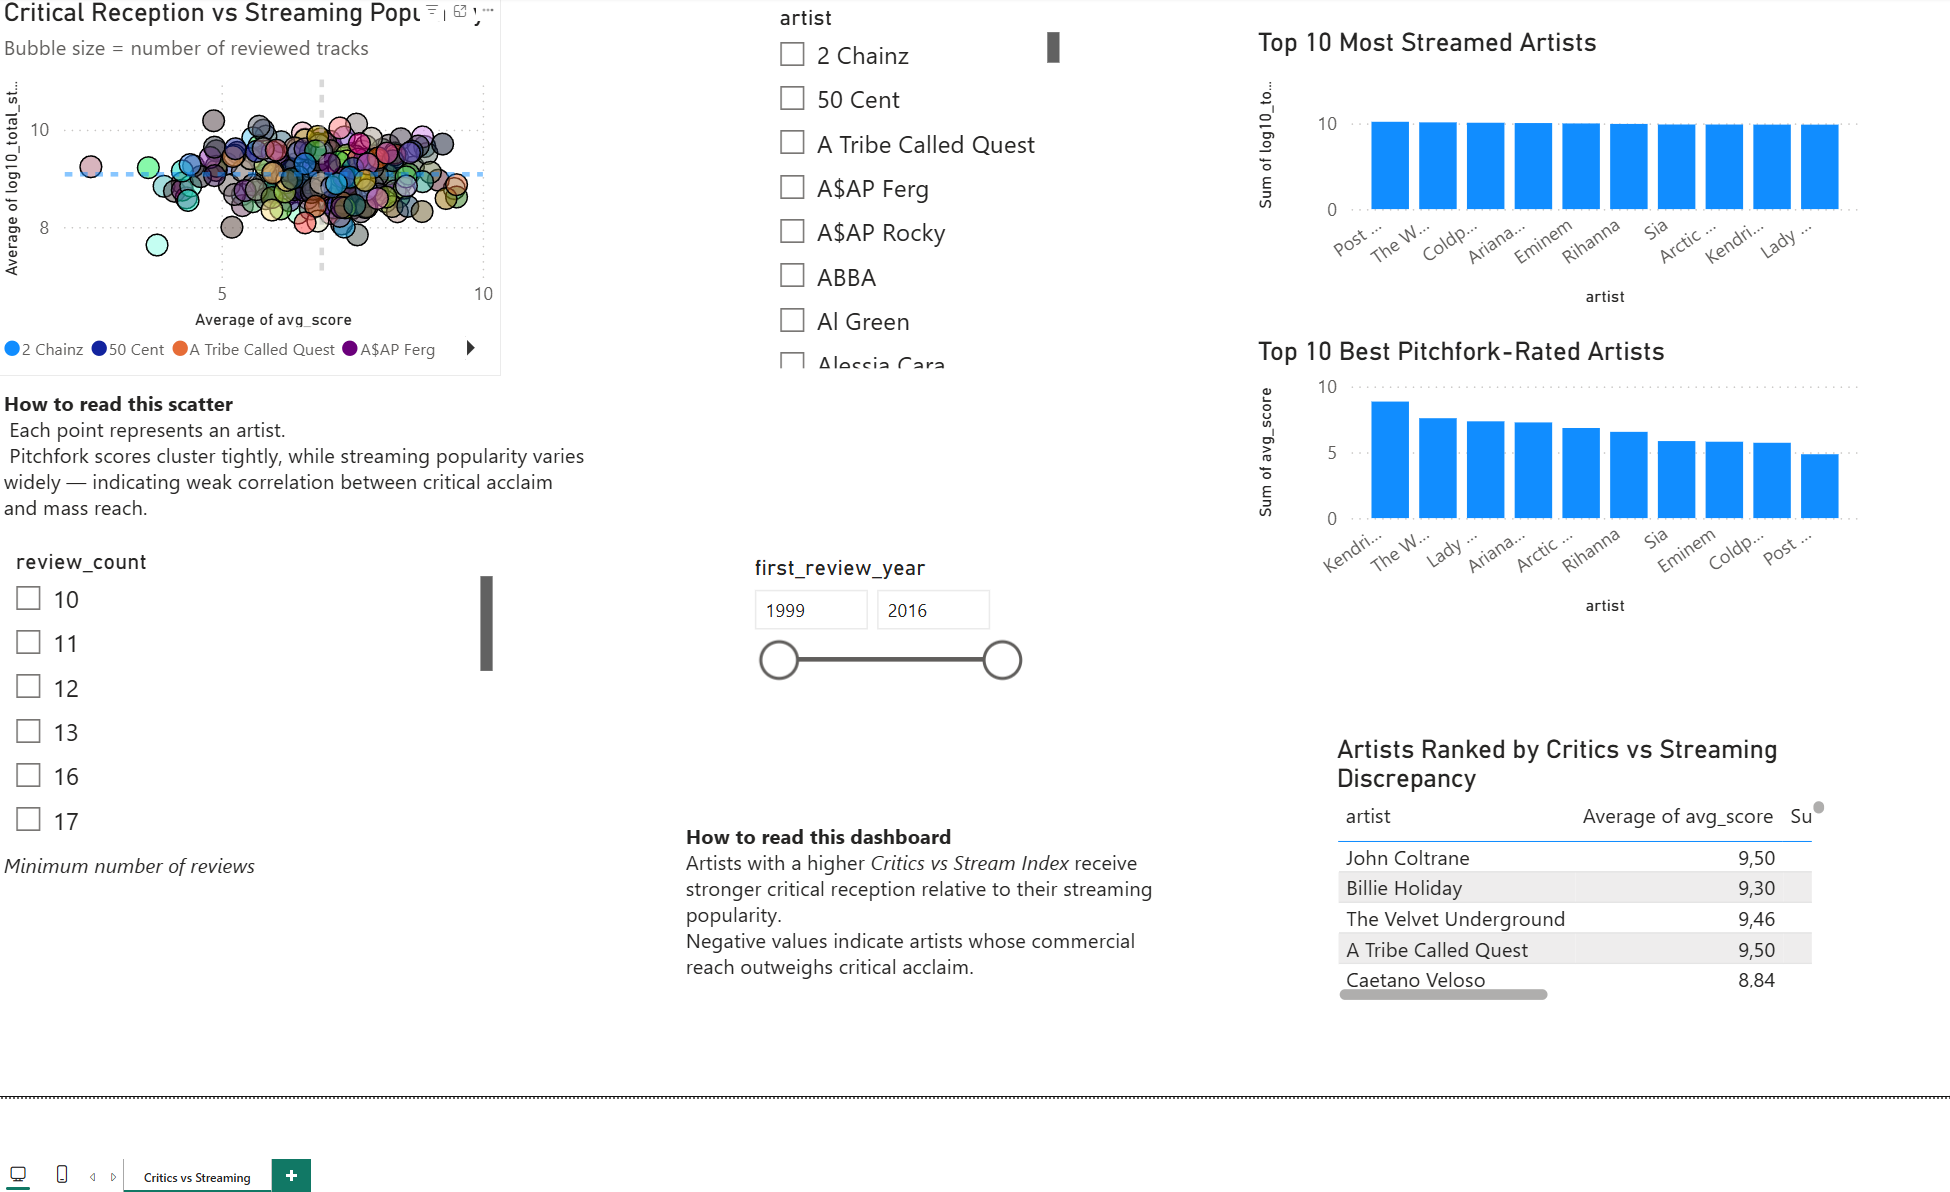

The dashboard page shown, as its layout file describes it:
{"tool":"powerbi","page":{"name":"Critics vs Streaming","canvas":[1280,720],"ordinal":0},"visuals":[{"type":"scatterChart","title":"Critical Reception vs Streaming Popularity","fields":{"X":["Avg(artist_critics_vs_streams_sample.avg_score)"],"Y":["Avg(artist_critics_vs_streams_sample.log10_total_streams)"],"Size":["CountNonNull(artist_critics_vs_streams_sample.track_count)"],"Series":["artist_critics_vs_streams_sample.artist"]},"box":[0,0,330.5,248],"z":0},{"type":"slicer","fields":{"Values":["artist_critics_vs_streams_sample.review_count"]},"box":[0,356,330.5,197.6],"z":1000},{"type":"slicer","fields":{"Values":["artist_critics_vs_streams_sample.artist"]},"box":[500,0,200.9,248],"z":2000},{"type":"slicer","fields":{"Values":["artist_critics_vs_streams_sample.first_review_year"]},"box":[483.6,359.9,195.7,195.7],"z":3000},{"type":"clusteredColumnChart","title":"Top 10 Most Streamed Artists","fields":{"Y":["Sum(artist_critics_vs_streams_sample.log10_total_streams)"],"Category":["artist_critics_vs_streams_sample.artist"]},"box":[820.6,19.6,403.1,187.2],"z":4000},{"type":"clusteredColumnChart","title":"Top 10 Best Pitchfork-Rated Artists","fields":{"Category":["artist_critics_vs_streams_sample.artist"],"Y":["Sum(artist_critics_vs_streams_sample.avg_score)"]},"box":[820.6,221.8,403.1,187.2],"z":5000},{"type":"tableEx","title":"Artists Ranked by Critics vs Streaming Discrepancy","fields":{"Values":["artist_critics_vs_streams_sample.artist","Avg(artist_critics_vs_streams_sample.avg_score)","Sum(artist_critics_vs_streams_sample.log10_total_streams)","artist_critics_vs_streams_sample.review_count","artist_critics_vs_streams_sample.Critics vs Stream Index"]},"box":[872.3,482.3,329.8,180],"z":5001},{"type":"textbox","box":[446.3,535.3,330.5,127],"z":5002},{"type":"textbox","box":[0,251.9,390,108],"z":5003},{"type":"textbox","box":[0,554.3,280.7,36],"z":5004}]}

Visuals, with their boxes on the page's 1280x720 design canvas (x1, y1, x2, y2). These are canvas units, not pixel positions in the 1950x1192 screenshot, which may show the page scaled, cropped or inside an application window:
"Critical Reception vs Streaming Popularity" scatterChart: select_region(0, 0, 330, 248)
slicer - artist_critics_vs_streams_sample.review_count: select_region(0, 356, 330, 554)
slicer - artist_critics_vs_streams_sample.artist: select_region(500, 0, 701, 248)
slicer - artist_critics_vs_streams_sample.first_review_year: select_region(484, 360, 679, 556)
"Top 10 Most Streamed Artists" clusteredColumnChart: select_region(821, 20, 1224, 207)
"Top 10 Best Pitchfork-Rated Artists" clusteredColumnChart: select_region(821, 222, 1224, 409)
"Artists Ranked by Critics vs Streaming Discrepancy" tableEx: select_region(872, 482, 1202, 662)
textbox: select_region(446, 535, 777, 662)
textbox: select_region(0, 252, 390, 360)
textbox: select_region(0, 554, 281, 590)
